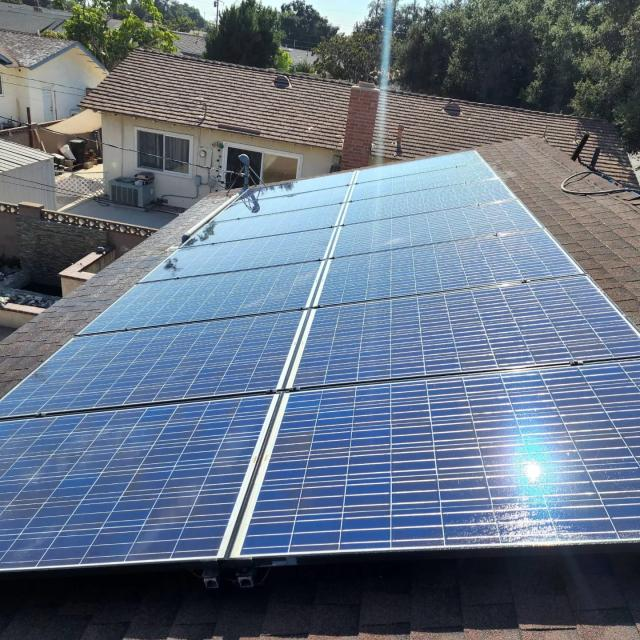clean-solar-panel: (0, 151, 640, 571)
